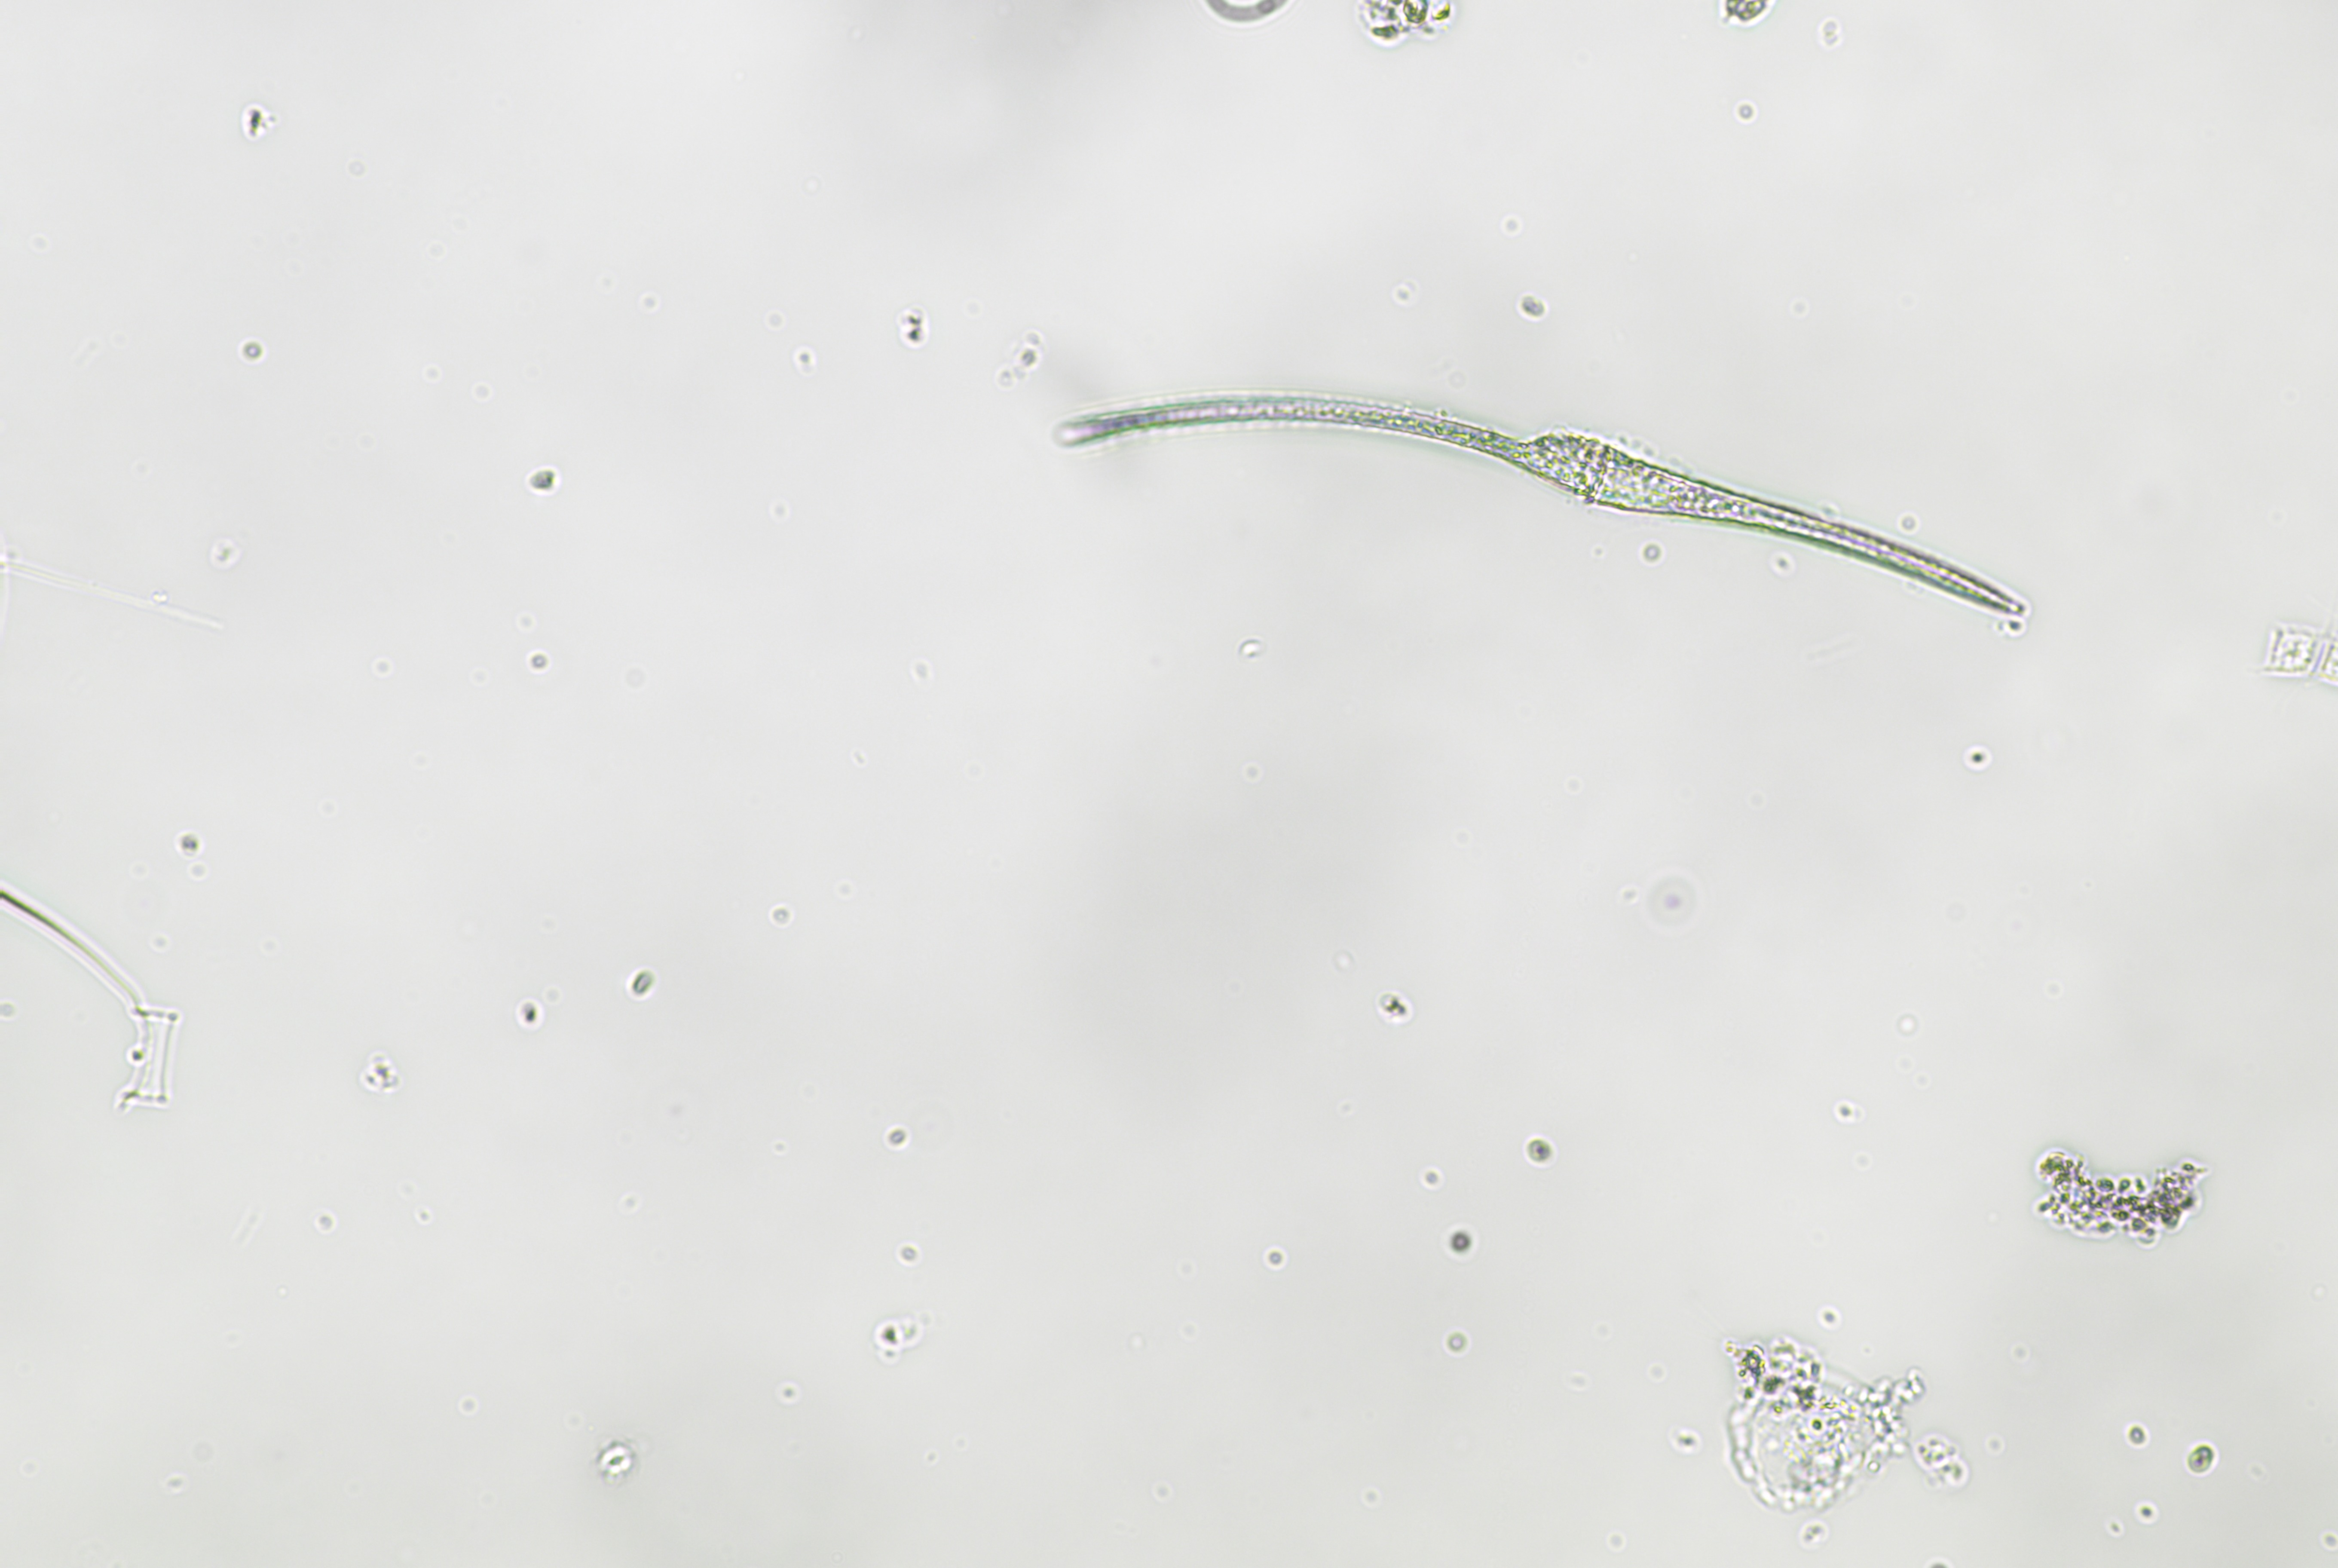ceratium fusus: (1050, 392, 2028, 635)
